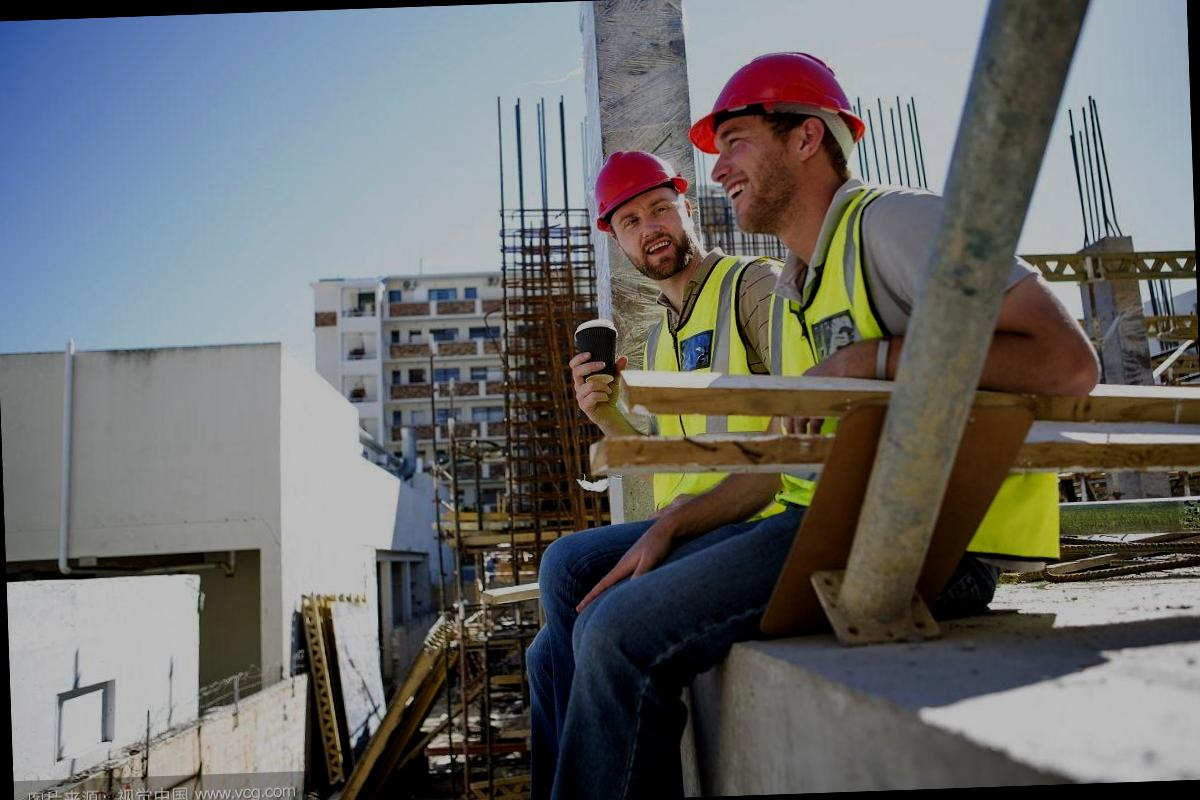helmet: (687, 45, 880, 160), (573, 142, 706, 234)
person: (677, 17, 1118, 608), (534, 127, 720, 641)
